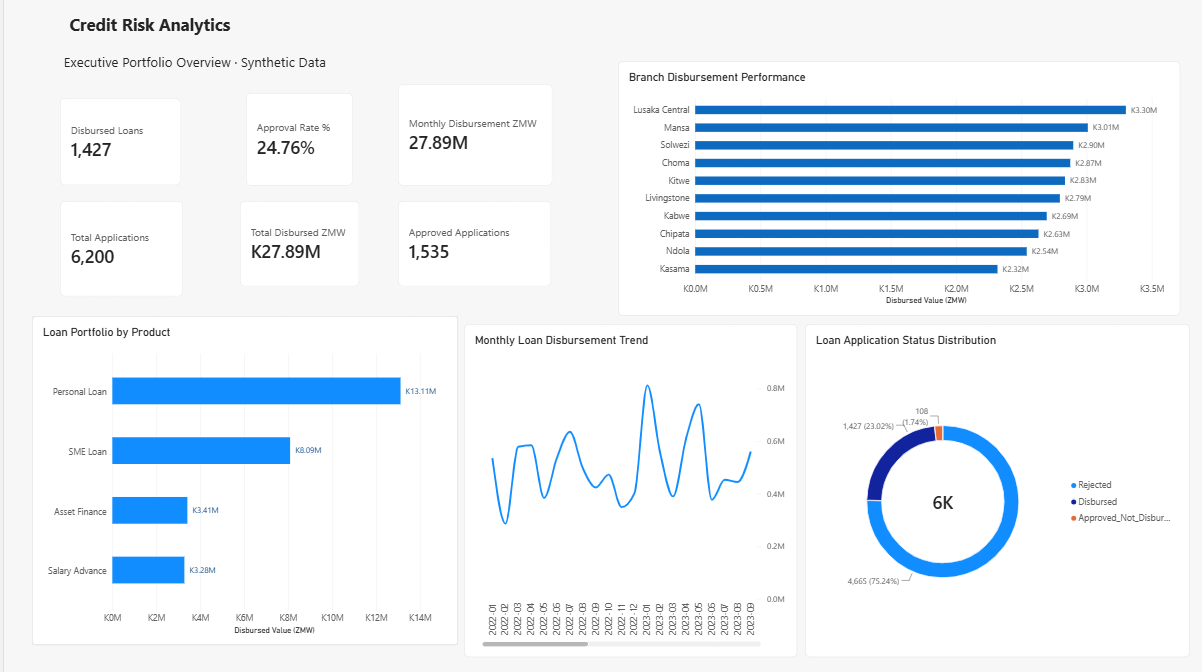

The page's visual inventory and layout, read from the dashboard file:
{"tool":"powerbi","page":{"name":"Credit Risk  Analysis","canvas":[1920,1080],"ordinal":0},"visuals":[{"type":"textbox","box":[89,23.3,286,39.4],"z":0},{"type":"textbox","box":[78.8,87.5,452.3,40.9],"z":1000},{"type":"cardVisual","fields":{"Data":["DimBranch.Total Applications"]},"box":[89.5,324.2,196.5,152.5],"z":2000},{"type":"cardVisual","fields":{"Data":["DimBranch.Total Disbursed ZMW"]},"box":[375.5,324.2,190.7,136.4],"z":3000},{"type":"cardVisual","fields":{"Data":["DimBranch.Disbursed Loans"]},"box":[89.5,159.9,192.1,139.3],"z":4000},{"type":"cardVisual","fields":{"Data":["DimBranch.Approval Rate %"]},"box":[385.8,151.1,170.1,148.1],"z":5000},{"type":"cardVisual","fields":{"Data":["DimBranch.Approved Applications"]},"box":[627.8,324.2,245,136.4],"z":6000},{"type":"cardVisual","fields":{"Data":["DimBranch.Monthly Disbursement ZMW"]},"box":[627.8,136.4,246.4,162.8],"z":7000},{"type":"lineChart","title":"Monthly Loan Disbursement Trend","fields":{"Category":["DimDate.Year Month"],"Y2":["DimBranch.Monthly Disbursement ZMW"]},"box":[733.4,519.2,531,531],"z":8000},{"type":"clusteredBarChart","title":"Loan Portfolio by Product","fields":{"Category":["FactLoans.loan_product"],"Y":["DimBranch.Total Disbursed ZMW"]},"box":[44,506,679.1,525.1],"z":9000},{"type":"donutChart","title":"Loan Application Status Distribution","fields":{"Category":["FactLoans.loan_status"],"Y":["DimBranch.Total Applications"]},"box":[1276.1,519.2,613.1,531],"z":10000},{"type":"clusteredBarChart","title":"Branch Disbursement Performance","fields":{"Category":["DimBranch.branch"],"Y":["DimBranch.Total Disbursed ZMW"]},"box":[978.3,99.7,896.2,406.3],"z":11000}]}

Visuals, with their boxes in screenshot pixels (x1, y1, x2, y2), scaled from the page's 1920x1080 canvas onto the 1202x672 screenshot:
textbox: 56, 14, 235, 39
textbox: 49, 54, 332, 80
cardVisual - DimBranch.Total Applications: 56, 202, 179, 297
cardVisual - DimBranch.Total Disbursed ZMW: 235, 202, 354, 287
cardVisual - DimBranch.Disbursed Loans: 56, 99, 176, 186
cardVisual - DimBranch.Approval Rate %: 242, 94, 348, 186
cardVisual - DimBranch.Approved Applications: 393, 202, 546, 287
cardVisual - DimBranch.Monthly Disbursement ZMW: 393, 85, 547, 186
"Monthly Loan Disbursement Trend" lineChart: 459, 323, 792, 653
"Loan Portfolio by Product" clusteredBarChart: 28, 315, 453, 642
"Loan Application Status Distribution" donutChart: 799, 323, 1183, 653
"Branch Disbursement Performance" clusteredBarChart: 612, 62, 1174, 315
